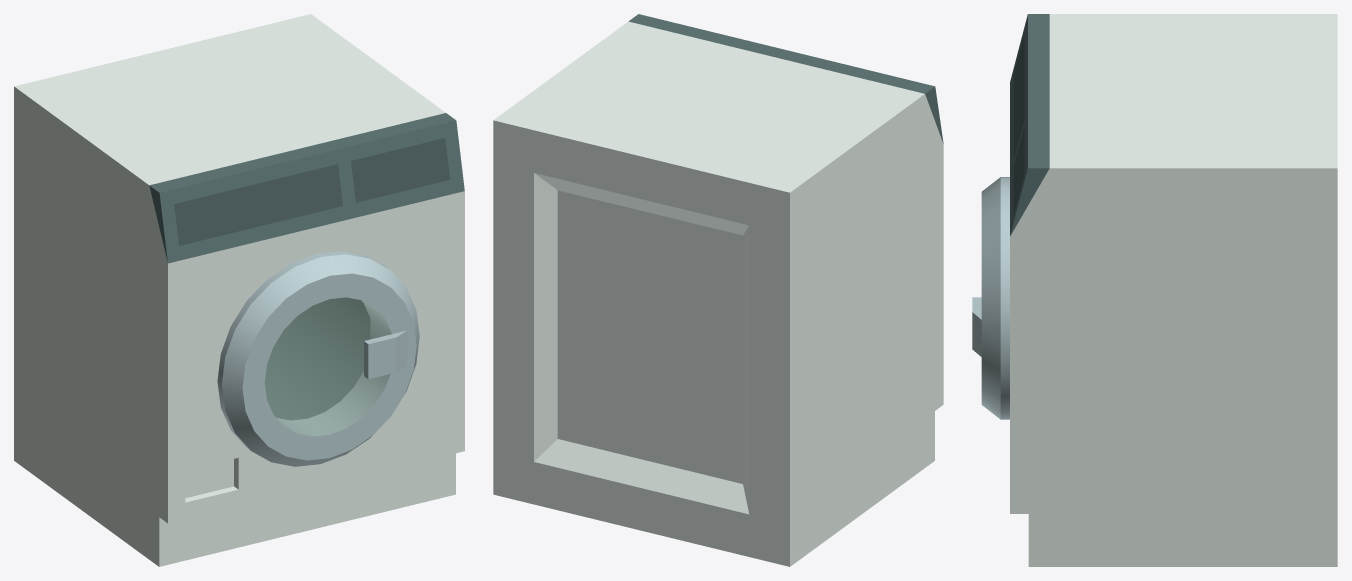
The model's file is Washer.glb.
3 renders of one model, left to right at view 1: azimuth 30°, elevation 25°; view 2: azimuth 150°, elevation 25°; view 3: azimuth 270°, elevation 25°, orthographic. The views are drawn at different scales.
Visible parts, largest first — view 1: washer(Clone), washerDoor; view 2: washer(Clone); view 3: washer(Clone), washerDoor.
Part boxes in pixels (x1=…): washer(Clone): x1=14, y1=14, x2=464, y2=566; washerDoor: x1=217, y1=251, x2=419, y2=466; washer(Clone): x1=493, y1=14, x2=943, y2=566; washer(Clone): x1=1010, y1=14, x2=1337, y2=566; washerDoor: x1=972, y1=177, x2=1009, y2=419.
Size of the model in its own units: 0.39 by 0.47 by 0.39.
